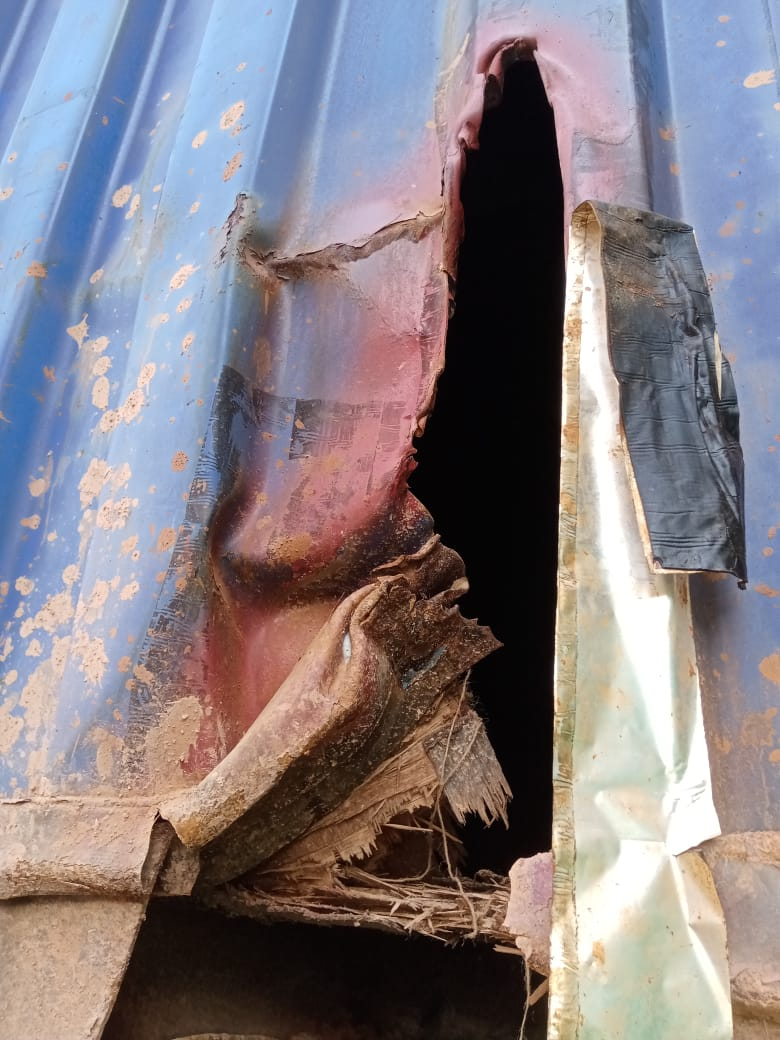cut: (233, 34, 602, 874)
